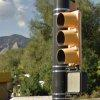traffic lights: (56, 9, 83, 69)
